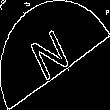N_SE: (30, 23, 80, 87)
